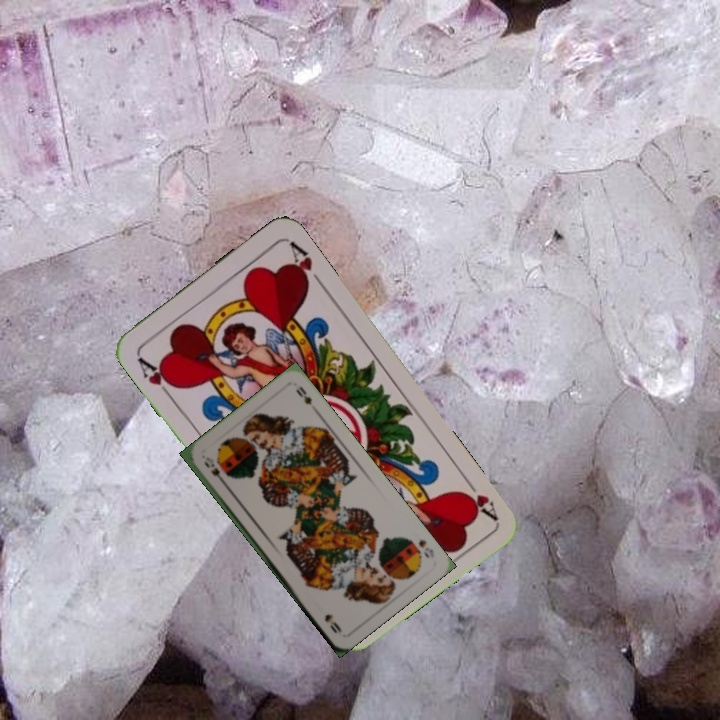HA: (133, 349, 180, 400), (455, 471, 500, 522)
SO: (200, 452, 229, 488), (414, 536, 437, 561)
